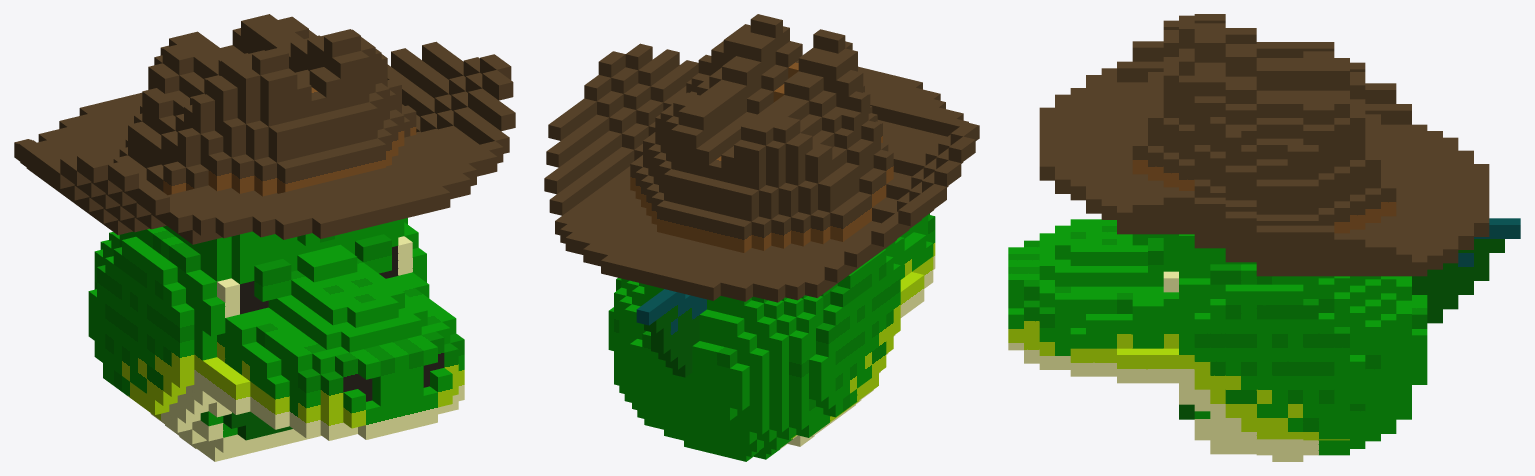
File: cowboy hat_lazer light.gltf
3 views of the same model, side by side, from view 1: azimuth 30°, elevation 25°; view 2: azimuth 150°, elevation 25°; view 3: azimuth 270°, elevation 25° (orthographic). The views are drawn at different scales.
Visible parts, largest first — view 1: C12_H_CowboyH_RedG_RBShade-Mesh; view 2: C12_H_CowboyH_RedG_RBShade-Mesh; view 3: C12_H_CowboyH_RedG_RBShade-Mesh.
Boxes of the visible parts, x1,y1,x2,y2 form: C12_H_CowboyH_RedG_RBShade-Mesh: [14, 14, 515, 461]; C12_H_CowboyH_RedG_RBShade-Mesh: [544, 14, 979, 461]; C12_H_CowboyH_RedG_RBShade-Mesh: [1008, 14, 1520, 461].
Bounding box in the file's own units: 29 × 28 × 33.
1 material, 1 textured.
